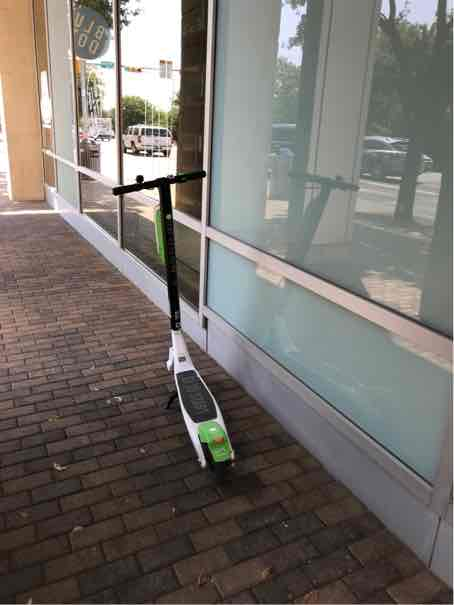scooter: (107, 167, 256, 484)
